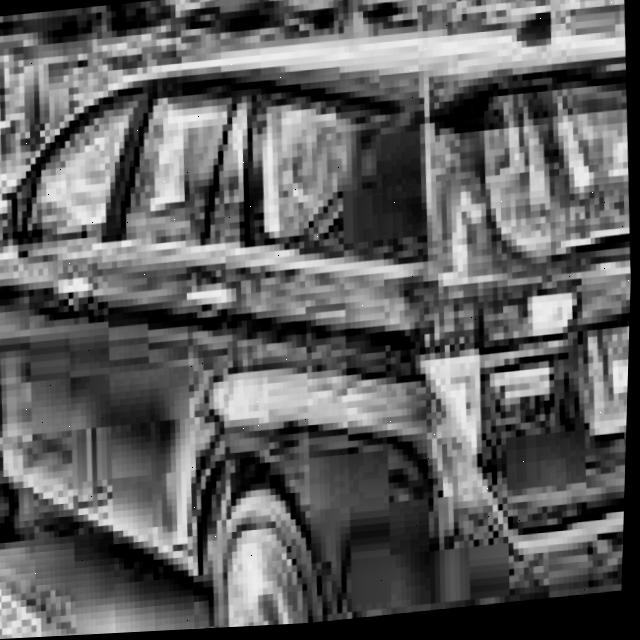light_vehicle: (0, 3, 639, 640)
